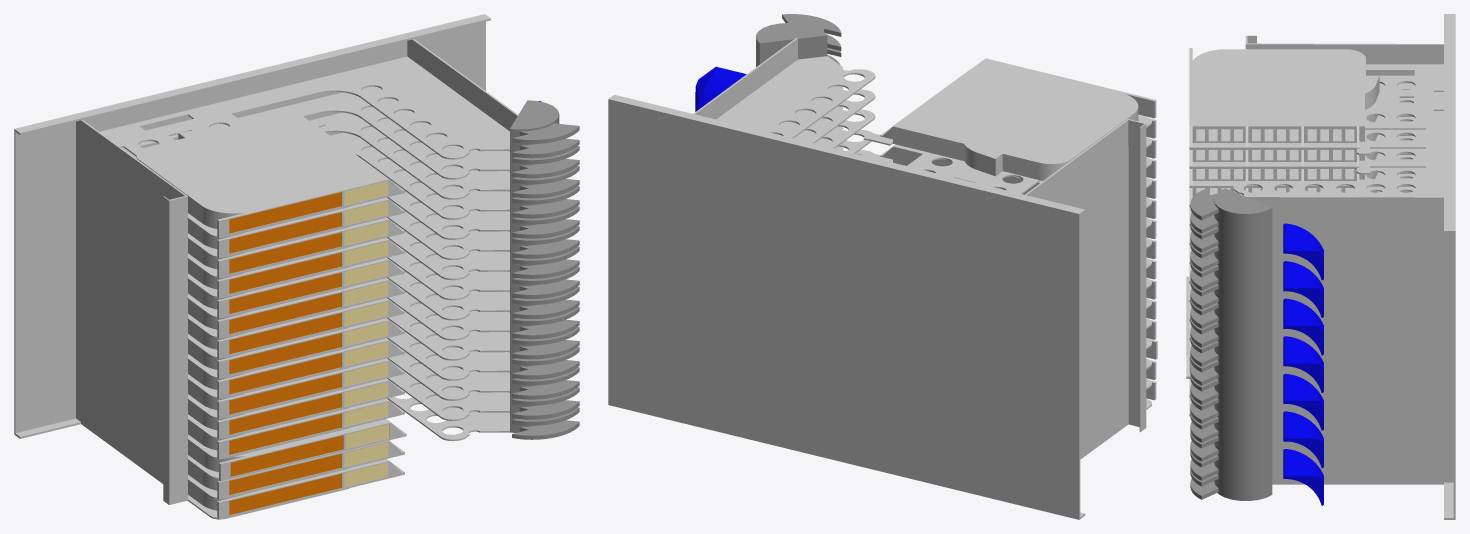
Rendered from Chassis-LISA-7U-L.glb.
3 views of the same model, side by side, from view 1: azimuth 30°, elevation 25°; view 2: azimuth 150°, elevation 25°; view 3: azimuth 270°, elevation 25° (orthographic). The views are drawn at different scales.
Parts seen in each view (by area): view 1: Geom3D (×61), Geom3D_ (×20); view 2: Geom3D_ (×6), Geom3D (×5); view 3: Geom3D_ (×41), Geom3D (×11).
Boxes of the visible parts, <box> form: Geom3D (×61): <box>15,18,509,519</box>; Geom3D_ (×20): <box>14,14,579,504</box>; Geom3D_ (×6): <box>608,14,1146,519</box>; Geom3D (×5): <box>716,56,1156,194</box>; Geom3D_ (×41): <box>1190,14,1455,519</box>; Geom3D (×11): <box>1186,48,1453,517</box>.
Size of the model in its own units: 0.5 by 0.3103 by 0.2619.
